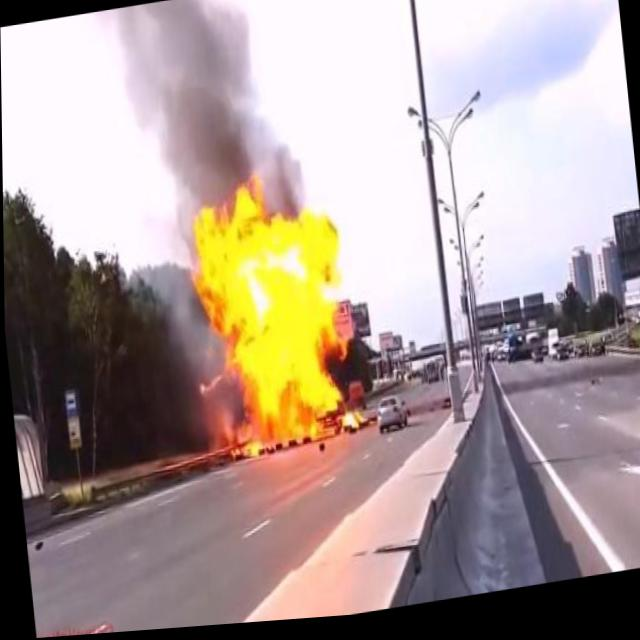fire: (175, 160, 367, 464)
